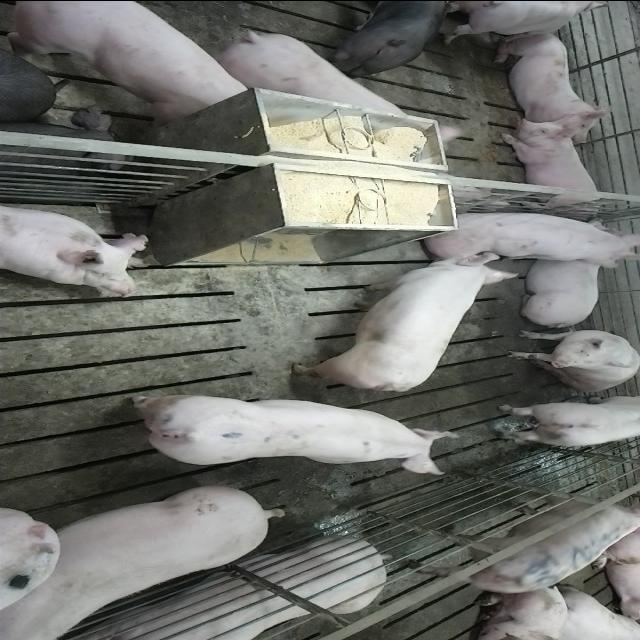Feeding: (289, 256, 529, 394)
Sitting: (425, 207, 640, 267), (502, 326, 637, 391)
Standing: (5, 1, 254, 120), (109, 385, 452, 467), (420, 485, 640, 592), (196, 28, 402, 118), (321, 0, 455, 75), (491, 390, 638, 447)
Sternal_lying: (60, 537, 390, 640), (491, 29, 621, 139), (0, 200, 151, 294), (498, 116, 610, 215), (516, 252, 608, 324)
